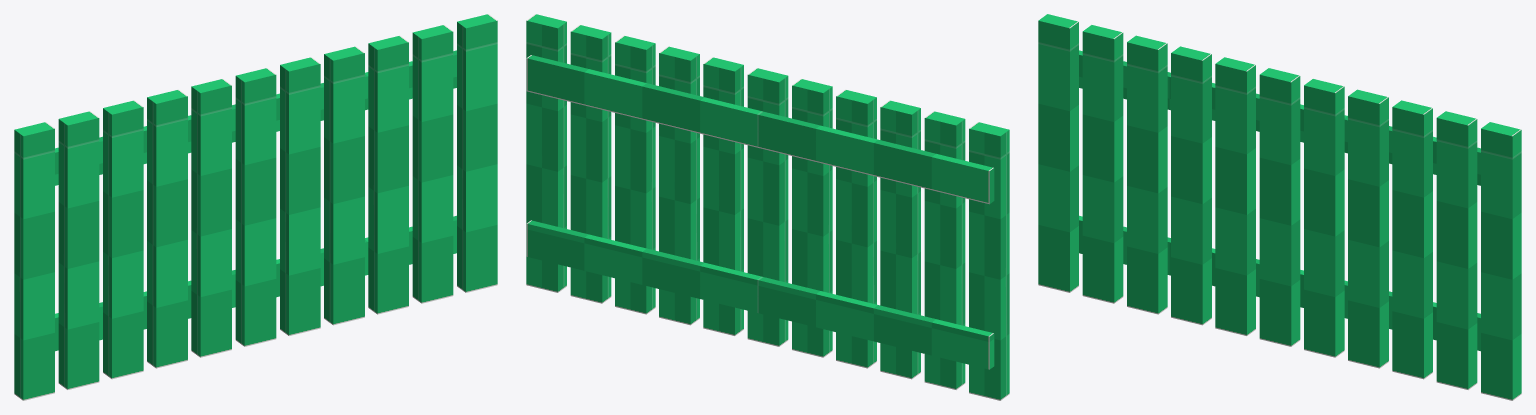
The model's file is fence.fbx.
The picture shows the model from 3 angles, left to right: view 1: azimuth 30°, elevation 25°; view 2: azimuth 150°, elevation 25°; view 3: azimuth 330°, elevation 25°; orthographic projection.
Visible parts, largest first — view 1: Cube.051; view 2: Cube.051; view 3: Cube.051.
Boxes of the visible parts, x1,y1,x2,y2 form: Cube.051: [14, 14, 497, 400]; Cube.051: [526, 14, 1009, 400]; Cube.051: [1038, 14, 1521, 400].
Size of the model in its own units: 300 by 160 by 15.
